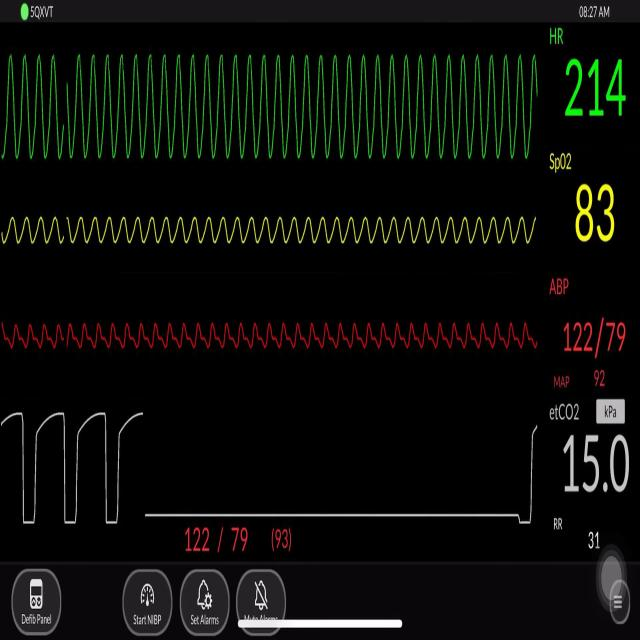danger: (6, 43, 542, 177)
